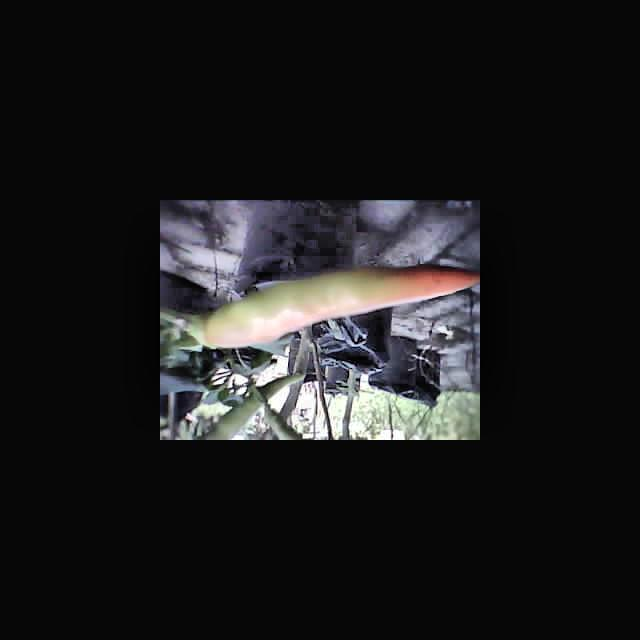Cabai: (195, 261, 480, 341)
